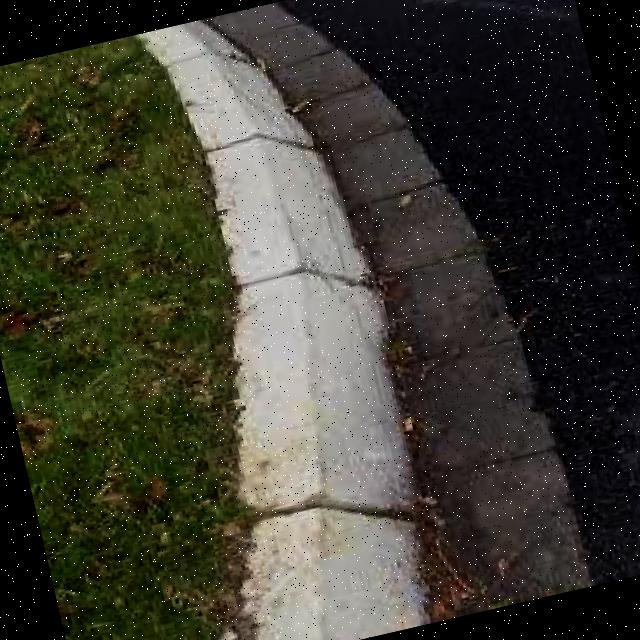curb: (139, 107, 478, 640), (145, 5, 293, 153)
